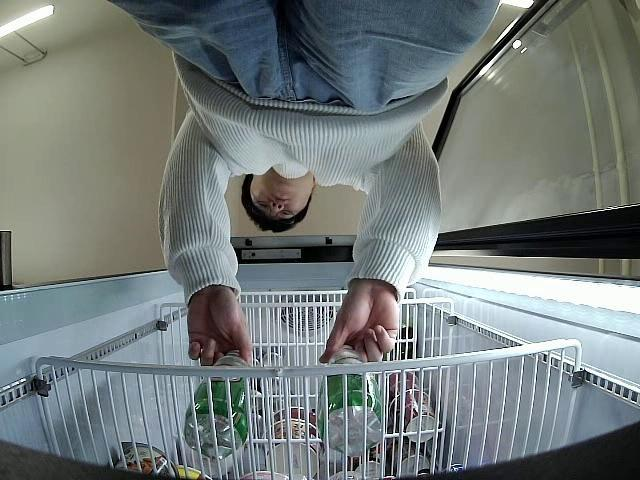18_trevi: (317, 344, 383, 456), (186, 350, 252, 457)
